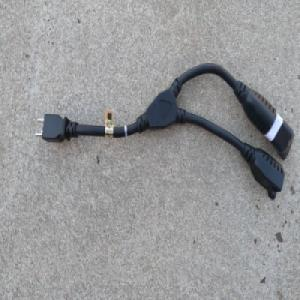Wire: (33, 61, 295, 201)
